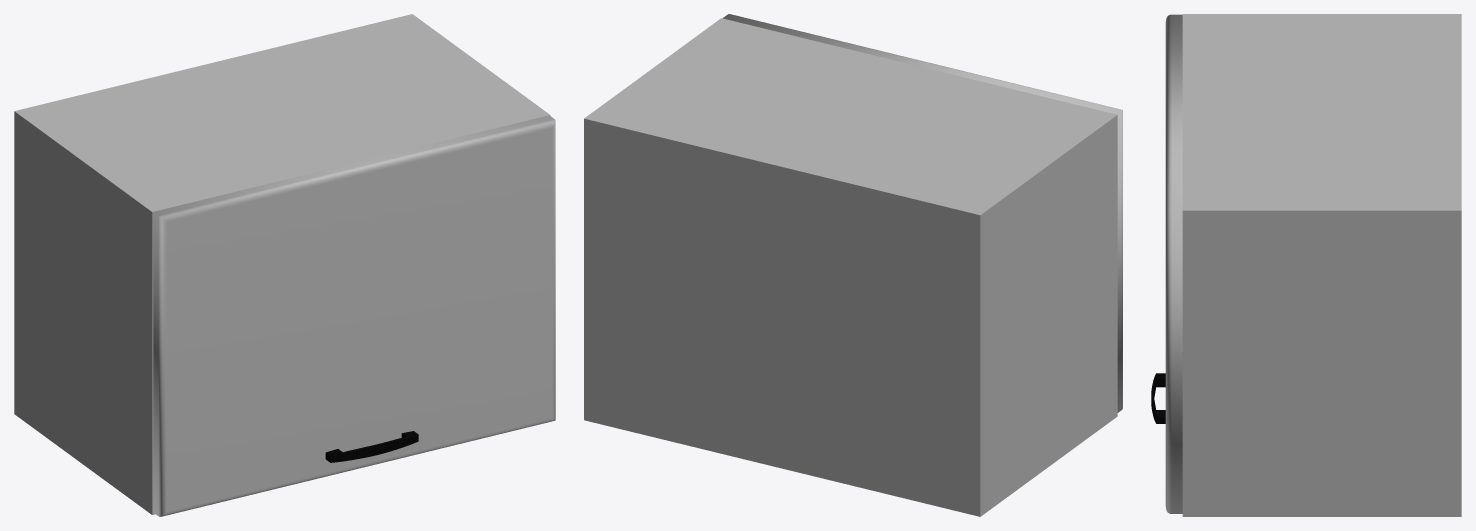
3 views of the same model, side by side, from view 1: azimuth 30°, elevation 25°; view 2: azimuth 150°, elevation 25°; view 3: azimuth 270°, elevation 25° (orthographic).
Parts seen in each view (by area): view 1: Box011, Box001, Obj3d66-503491-2-356; view 2: Box001, Box011; view 3: Box001, Box011, Obj3d66-503491-2-356.
Part boxes in pixels (x1,y1,x2,y2): Box011: (153, 115, 555, 516); Box001: (14, 14, 550, 514); Obj3d66-503491-2-356: (325, 431, 418, 462); Box001: (584, 18, 1117, 516); Box011: (723, 14, 1122, 412); Box001: (1182, 14, 1461, 516); Box011: (1165, 14, 1182, 513); Obj3d66-503491-2-356: (1151, 373, 1165, 423).
Bounding box in the file's own units: 0.55 × 0.4 × 0.3671.
2 materials, 1 textured.
